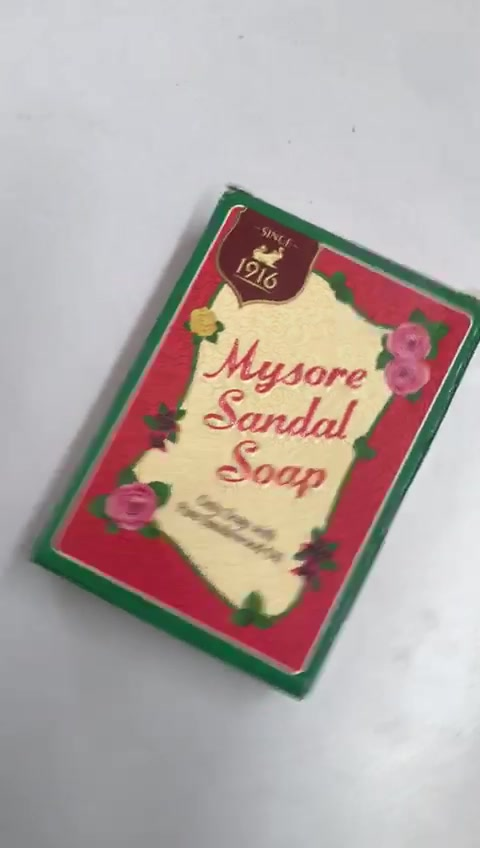mysoresandalsoap: (23, 188, 479, 700)
